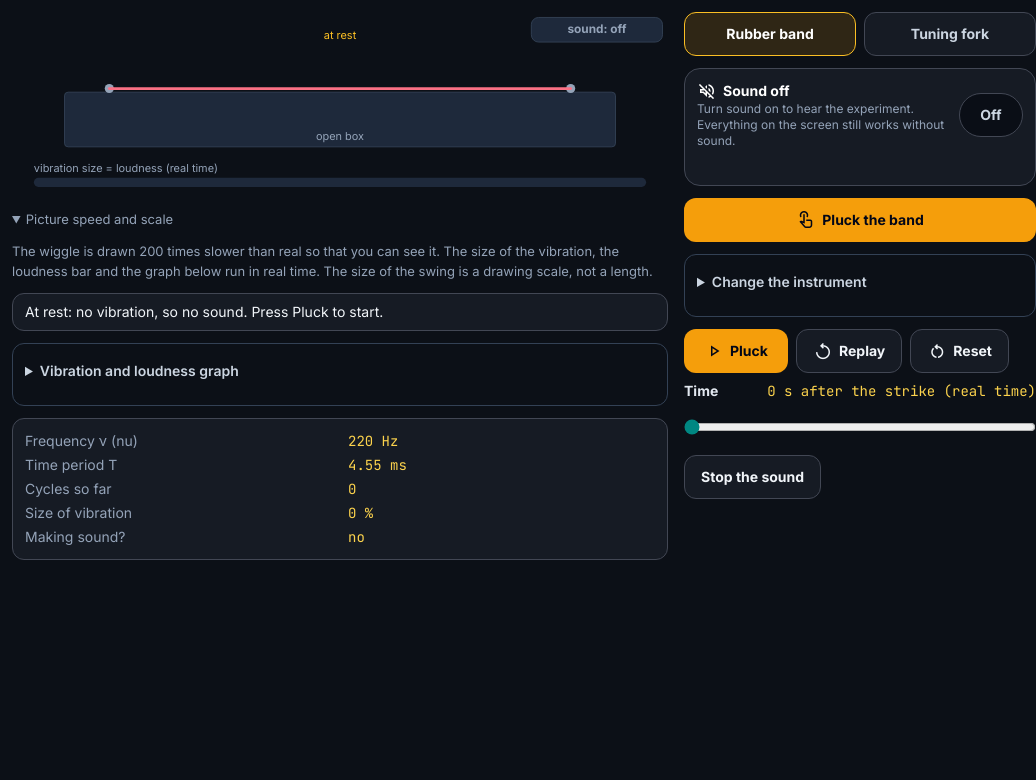
Vibration Laboratory: sound is off, silent and safe › pressing Pluck with sound OFF shows the vibration and the text equivalent but plays nothing
The image size is (1036, 780).
Step 1. Click the button "Pluck the band" → {"x": 860, "y": 220}, box [684,198,1035,242]
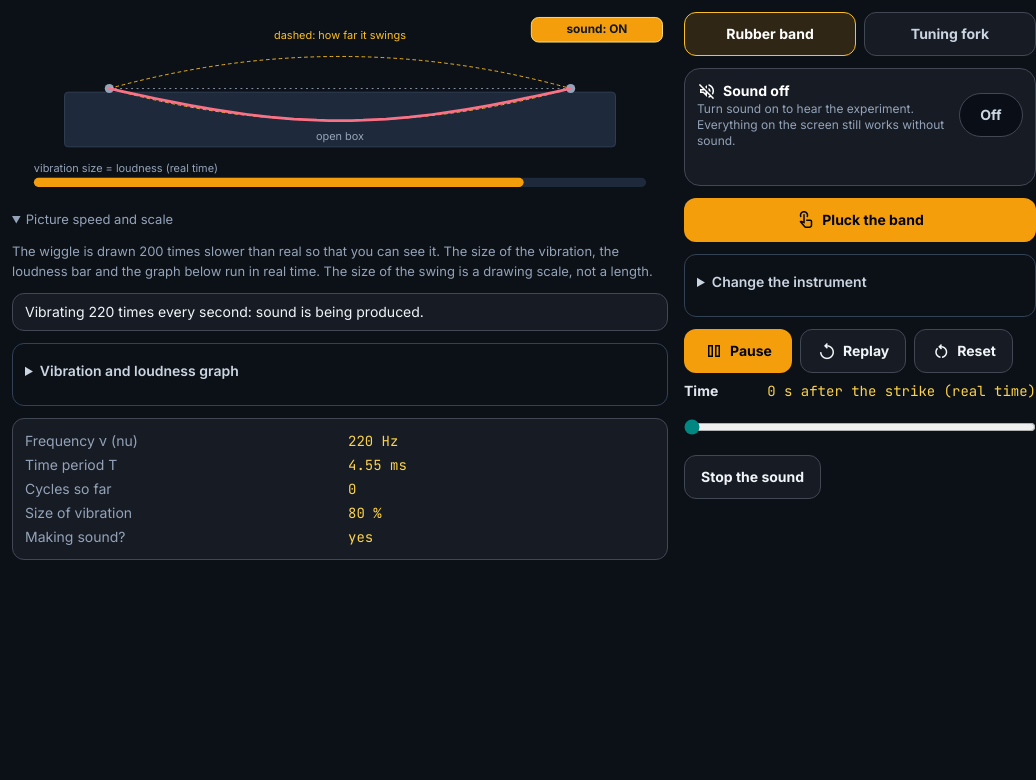
Expected: the text with test id "readout-hz" reads "220 Hz", [348,432,398,450]
Expected: the message with test id "vib-status" shows "Vibrating 220 times every second: sound is being produced", [25,303,424,320]
Expected: the text with test id "readout-sound" reads "yes", [348,528,373,546]
